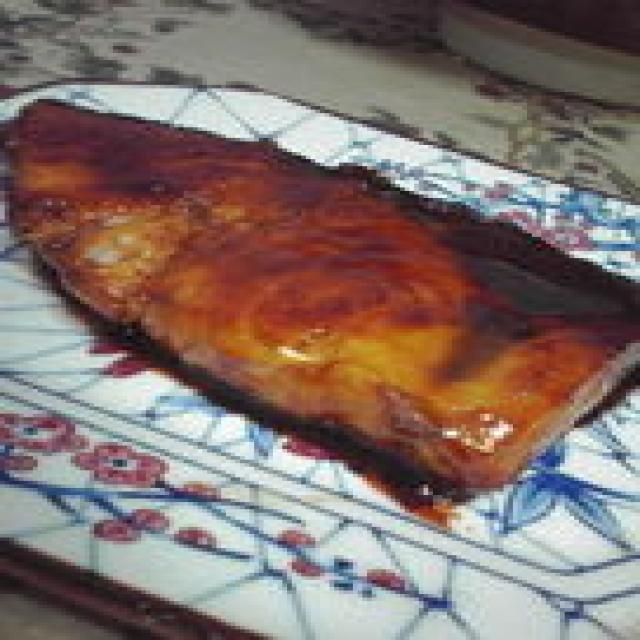熟制海鲜: (0, 81, 640, 464)
